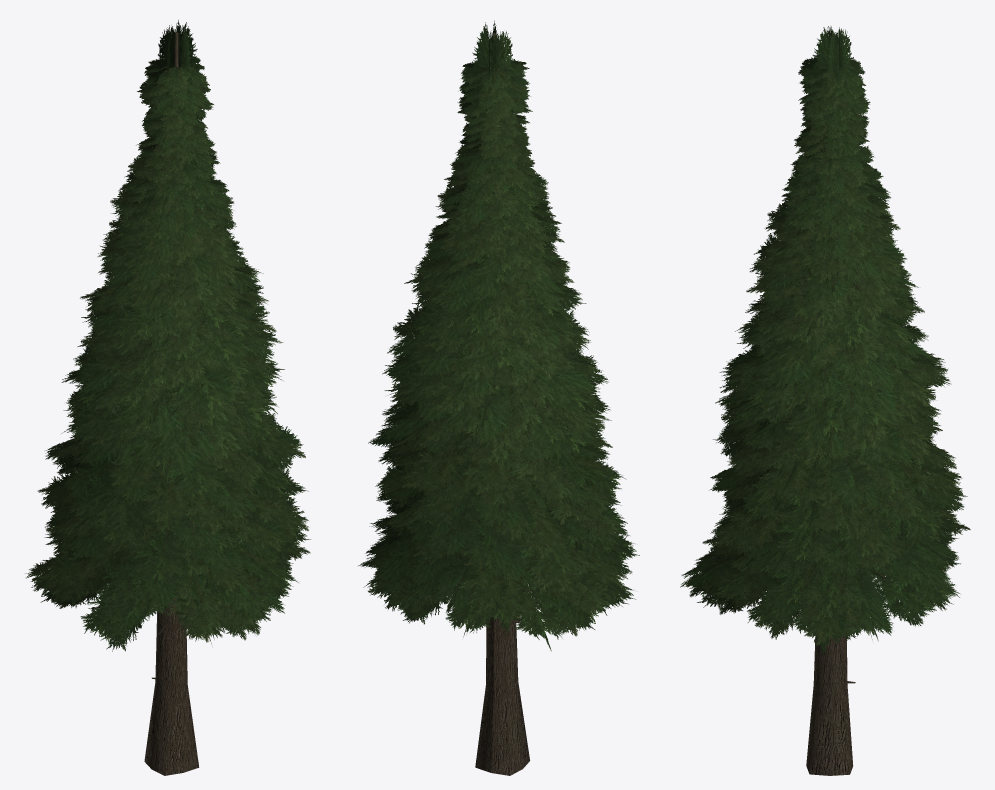
The model's file is fir_b-Bo7t_uOW.glb.
3 views of the same model, side by side, from view 1: azimuth 30°, elevation 25°; view 2: azimuth 150°, elevation 25°; view 3: azimuth 270°, elevation 25° (orthographic).
Parts seen in each view (by area): view 1: leaves, bark; view 2: leaves, bark; view 3: leaves, bark.
Boxes of the visible parts, x1,y1,x2,y2 form: leaves: (25,20,310,651); bark: (104,32,212,775); leaves: (358,20,639,651); bark: (416,33,576,775); leaves: (680,26,970,656); bark: (786,33,915,775).
Bounding box in the file's own units: 6.34 × 16.6 × 6.19.
Materials: 2 (2 with a texture image).
